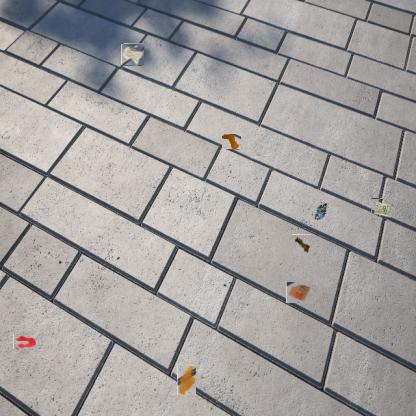dirty: (286, 281, 313, 303), (122, 43, 144, 66), (312, 202, 333, 223), (291, 234, 311, 255), (371, 198, 391, 218), (221, 134, 241, 150)
liquid: (177, 365, 196, 395), (13, 333, 36, 349)
